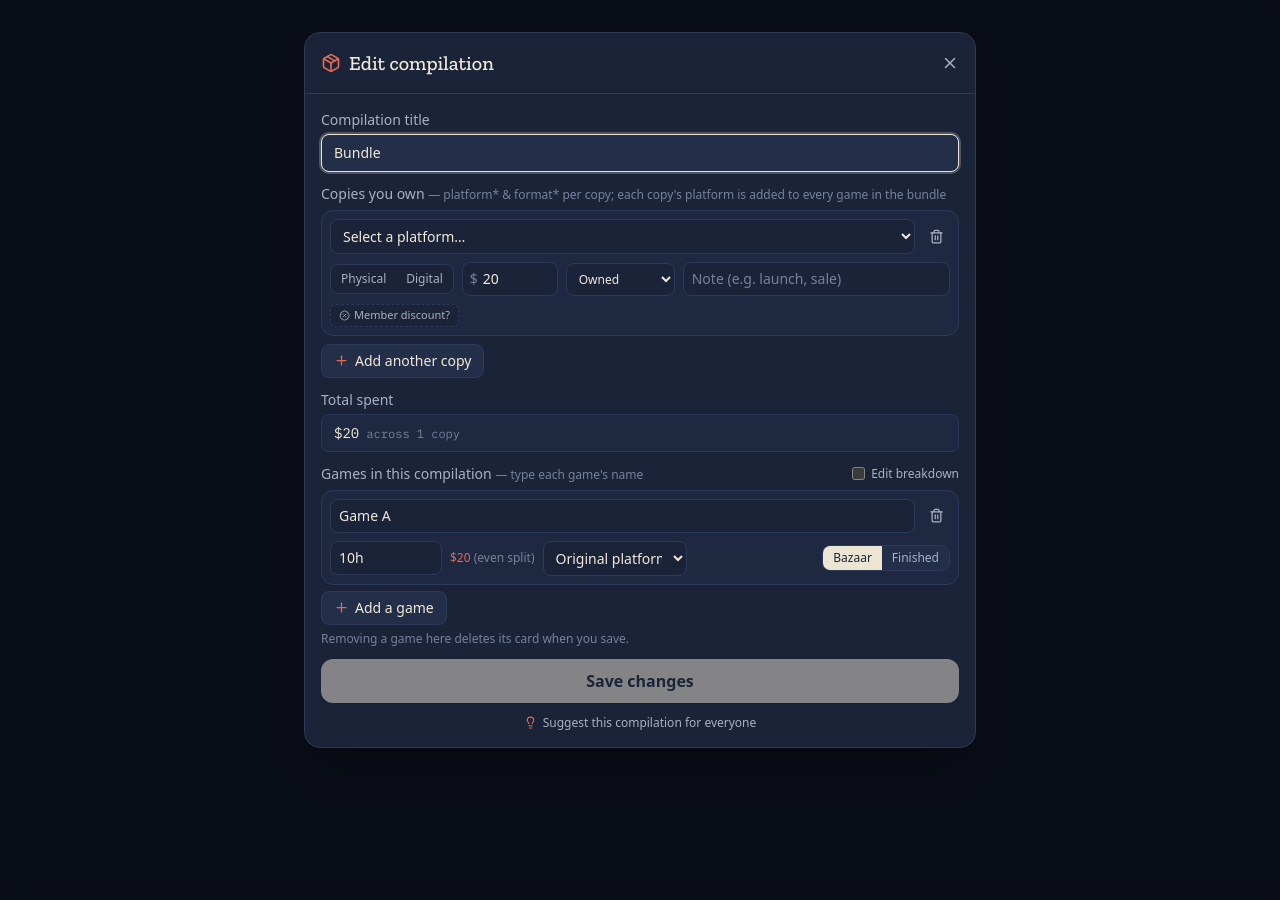
Test: AddCompilationModal — suggest to the community › blocks an unchanged edit-mode draft that already matches a shared template
This screenshot has width=1280, height=900.
Click the button "Suggest this compilation for everyone": click(640, 723) [524,715,756,731]
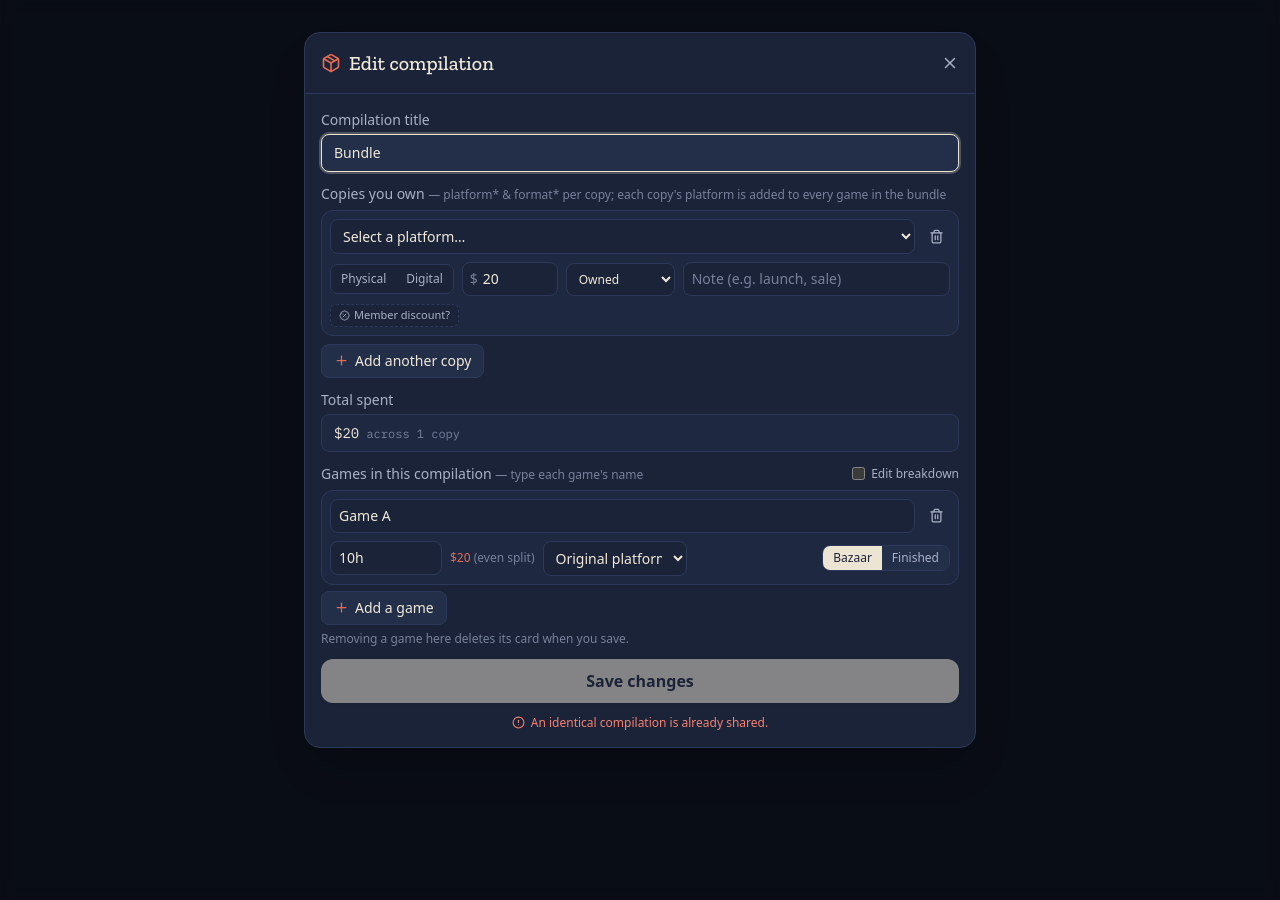
Expected: the button "An identical compilation is already shared." is shown, [512,715,768,731]
